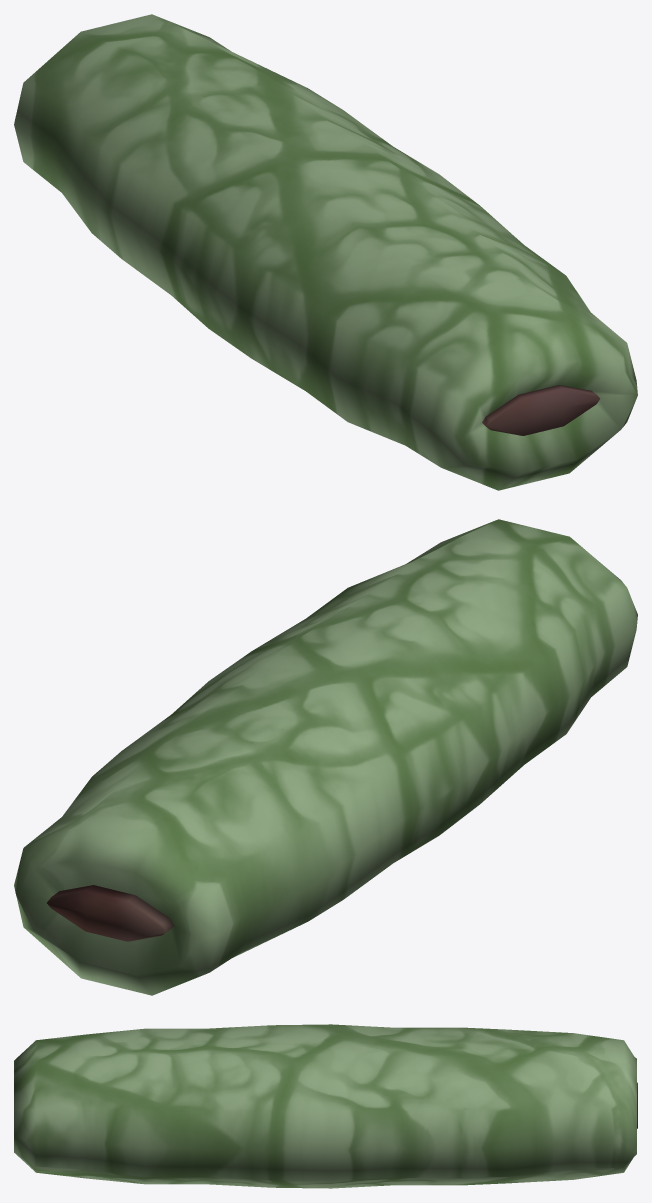
Rendered from repollo2.glb.
The picture shows the model from 3 angles, top to bottom: view 1: azimuth 30°, elevation 25°; view 2: azimuth 150°, elevation 25°; view 3: azimuth 270°, elevation 25°; orthographic projection. The views are drawn at different scales.
Parts seen in each view (by area): view 1: polySurface28; view 2: polySurface28; view 3: polySurface28.
Boxes of the visible parts, x1,y1,x2,y2 form: polySurface28: (14,14,637,490); polySurface28: (14,519,637,995); polySurface28: (14,1024,637,1188).
Bounding box in the file's own units: 0.4055 × 0.2901 × 1.23.
1 material, 1 textured.
